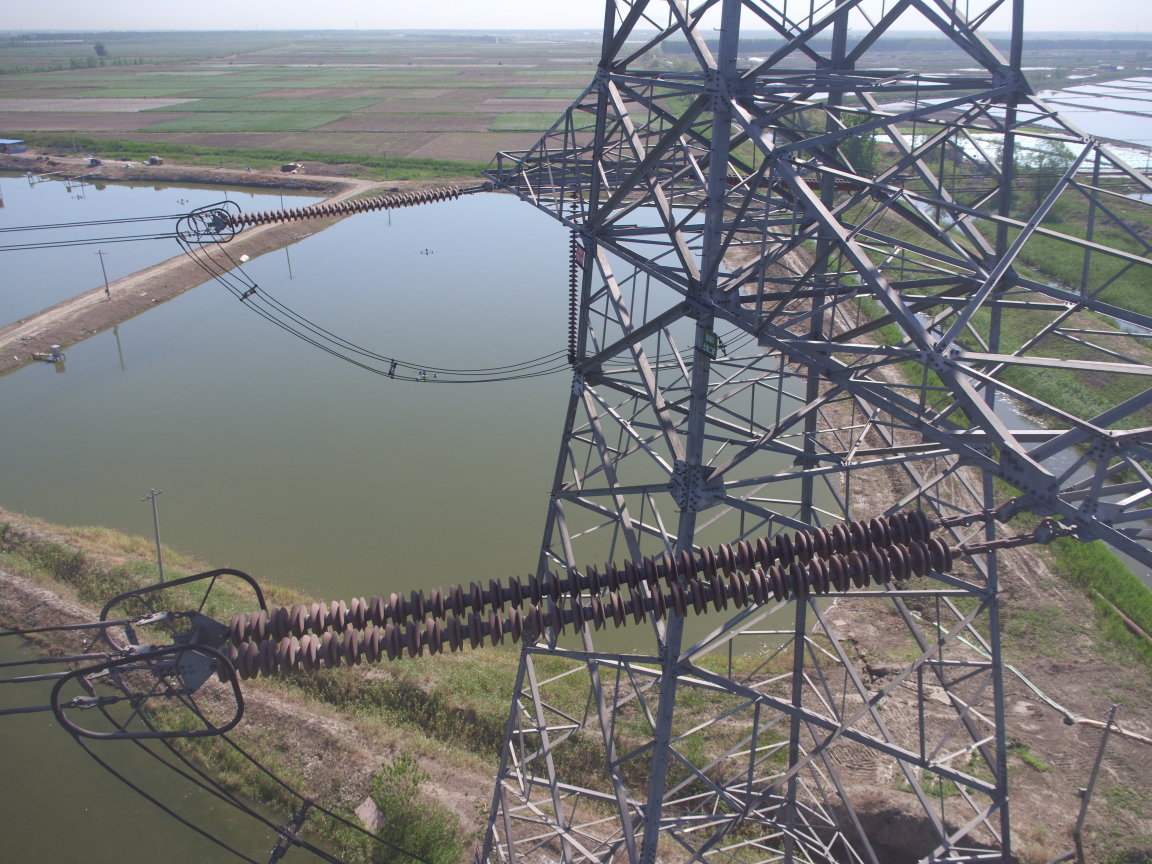insulator: (201, 505, 994, 684), (217, 183, 475, 229)
